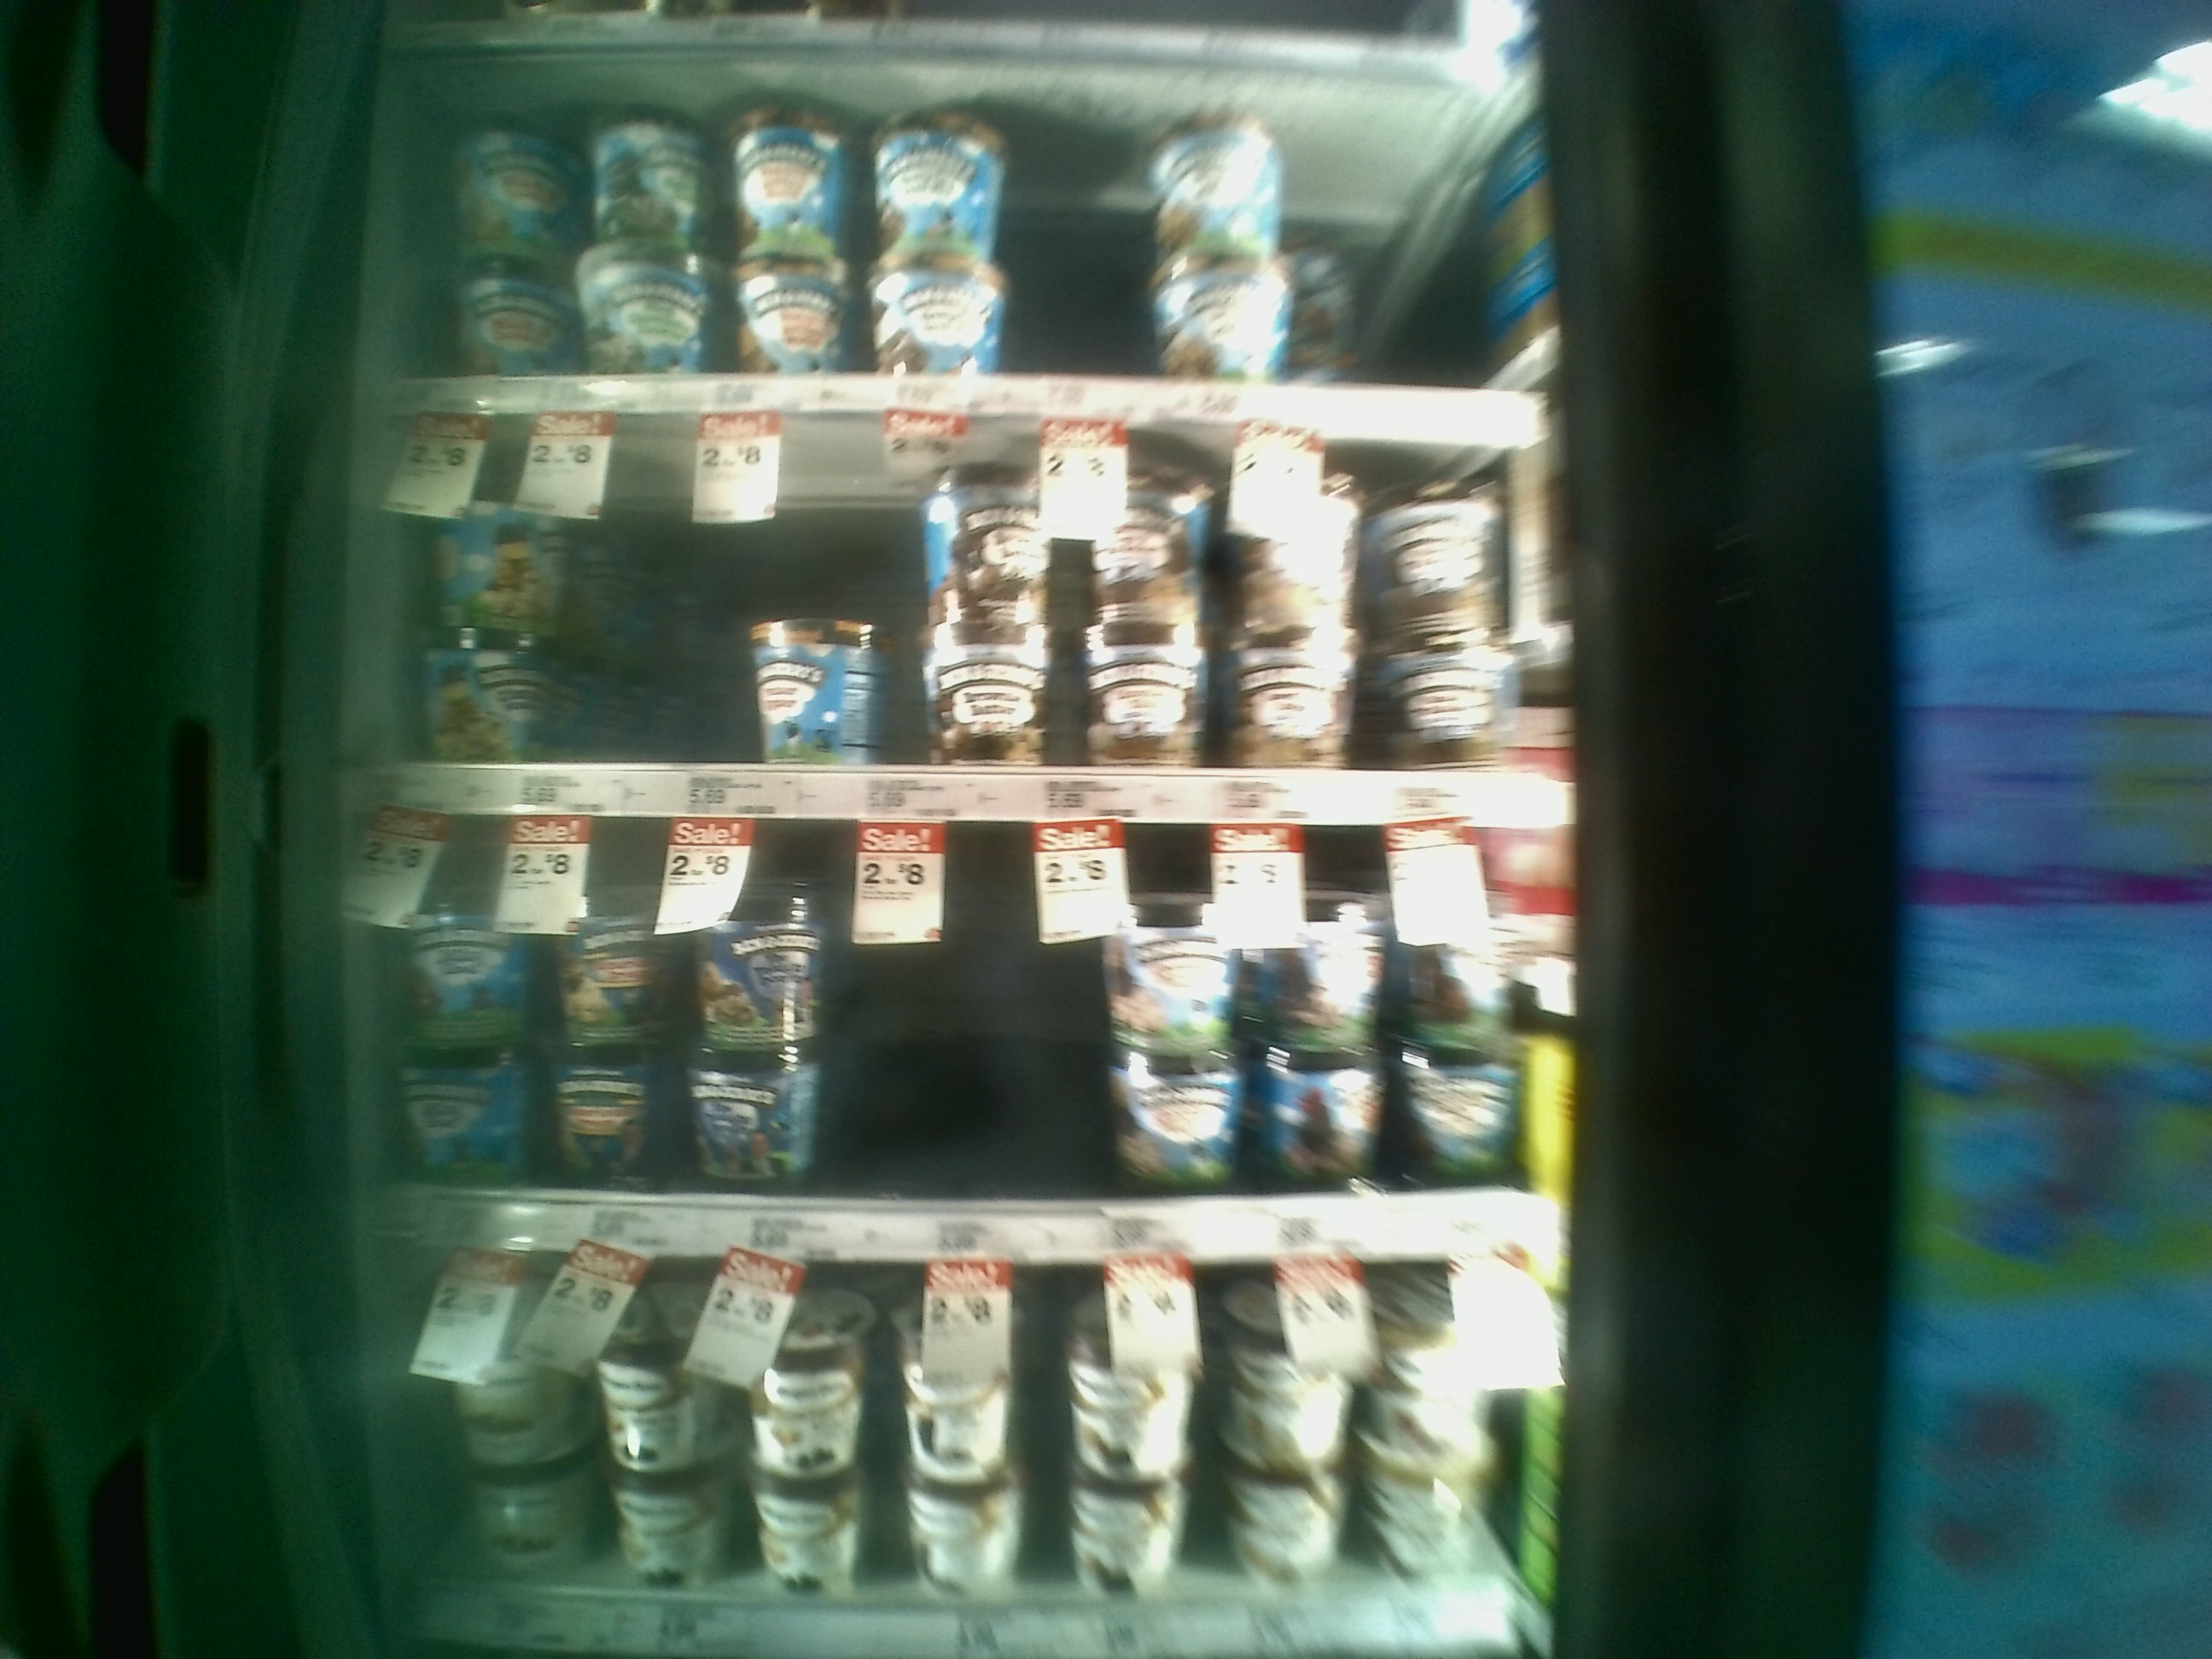shelf: (376, 819, 1559, 1251), (380, 410, 1548, 814), (381, 1251, 1548, 1650), (371, 31, 1555, 404)
